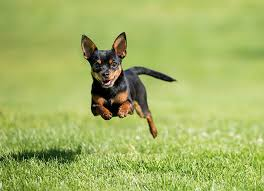chihuahua: (79, 32, 178, 138)
